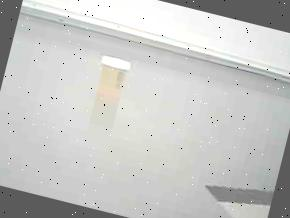Bottle B: (87, 48, 140, 111)
